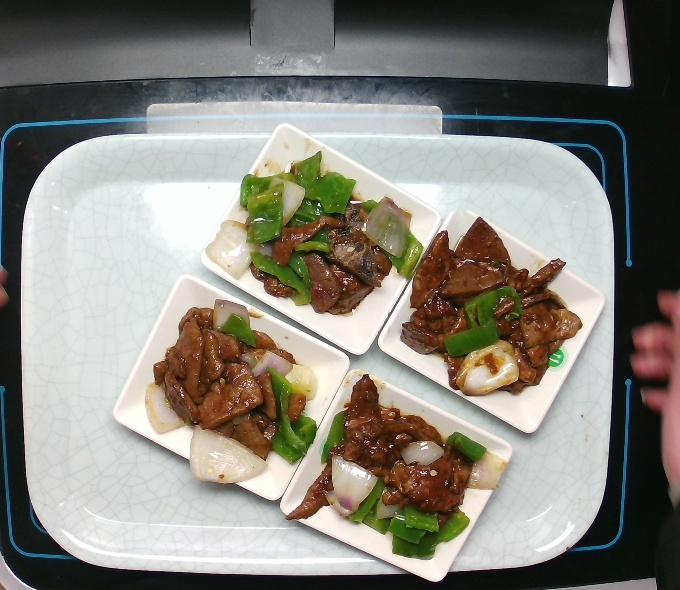wcq-ZhuGan: (282, 375, 497, 561), (133, 298, 322, 497), (222, 139, 415, 325), (405, 213, 592, 403)
